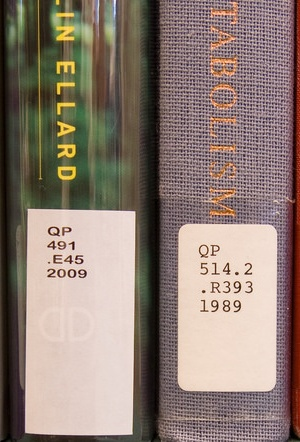call_number: (28, 207, 132, 435), (180, 224, 276, 392)
